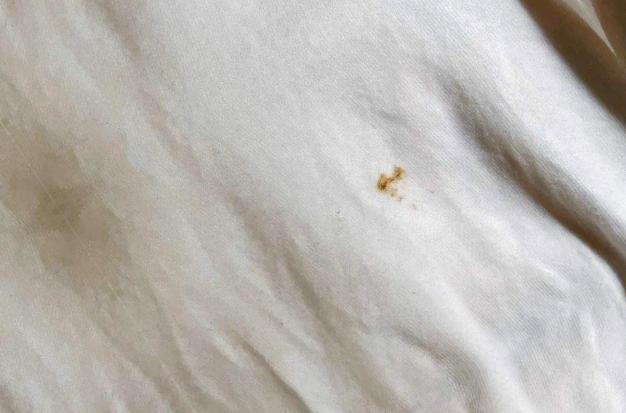stain: (371, 159, 434, 211)
